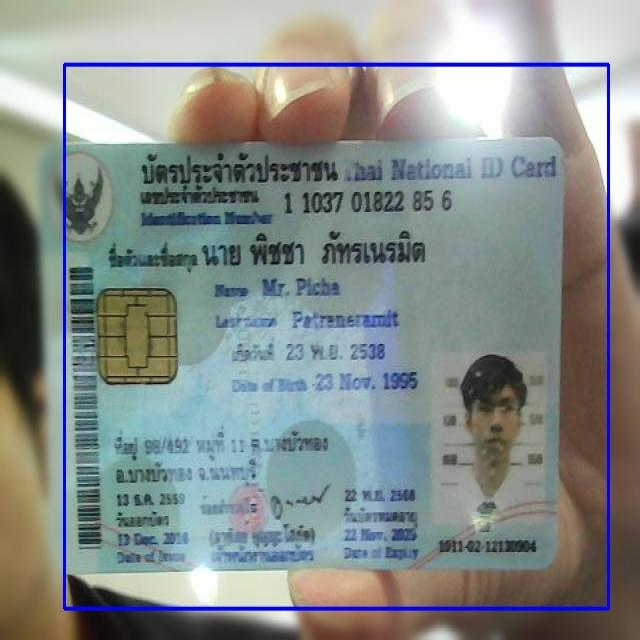Address_th: (106, 420, 337, 490)
Date_of_Birth: (312, 365, 422, 398)
Date_of_Expiry: (341, 524, 419, 547)
Date_of_Issue: (115, 528, 192, 550)
First_Name: (254, 271, 344, 302)
ID_Number: (277, 182, 461, 218)
Image: (433, 352, 545, 533)
Last_Name: (287, 304, 403, 334)
Thai_Name: (199, 225, 430, 273)
